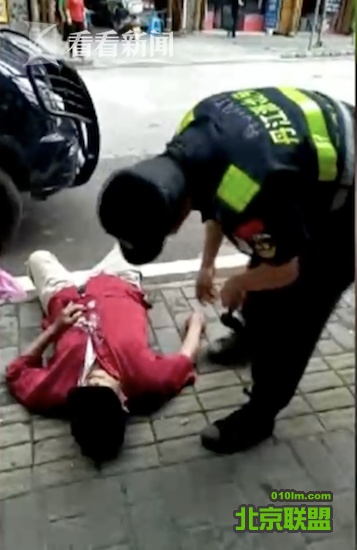falling: (4, 232, 208, 473)
